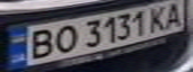1: (130, 7, 151, 37), (100, 15, 121, 44)
3: (78, 17, 103, 47), (115, 11, 136, 40)
A: (160, 1, 190, 28)
B: (21, 27, 57, 61)
K: (145, 3, 172, 33)
O: (48, 22, 81, 54)
